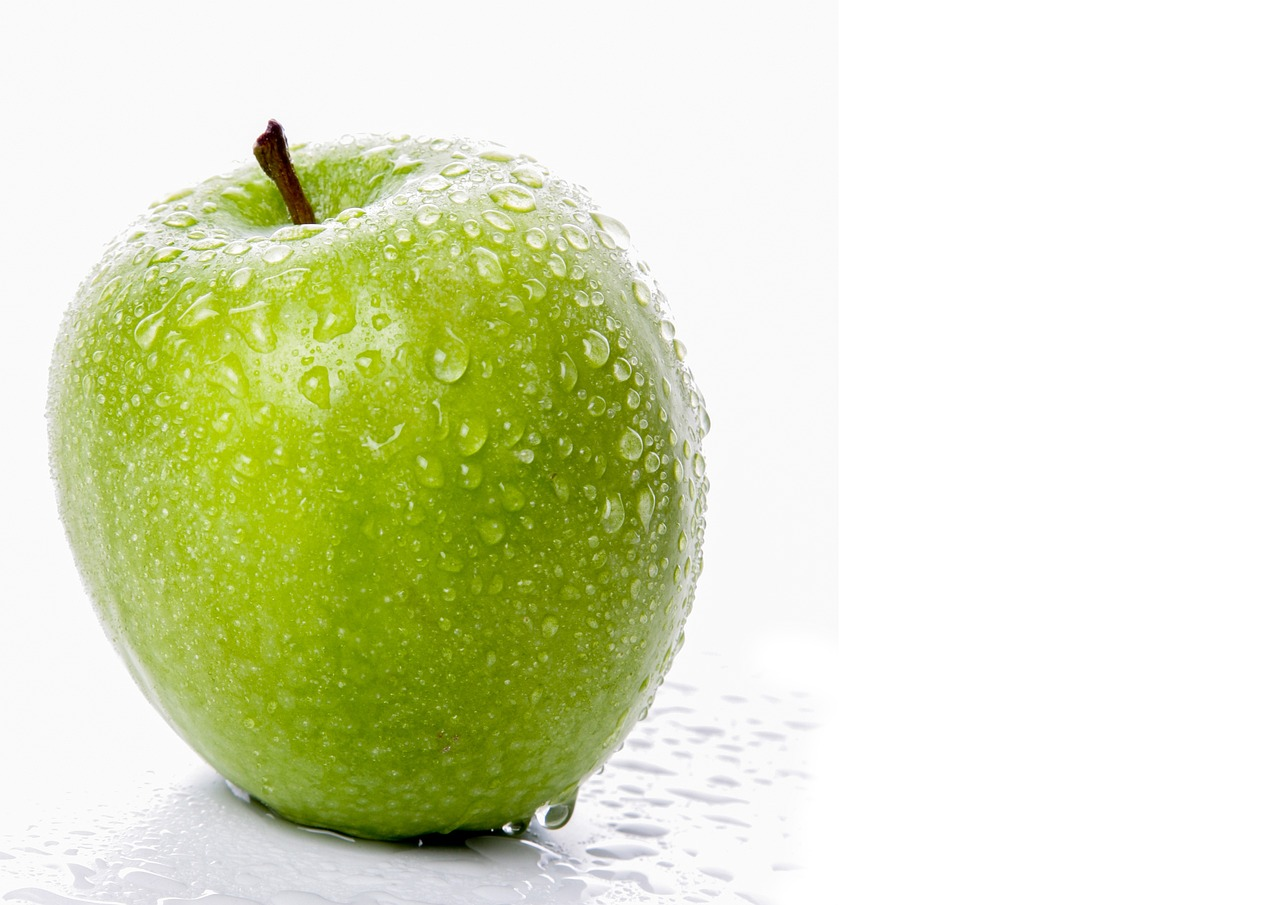apel: (37, 115, 727, 893)
